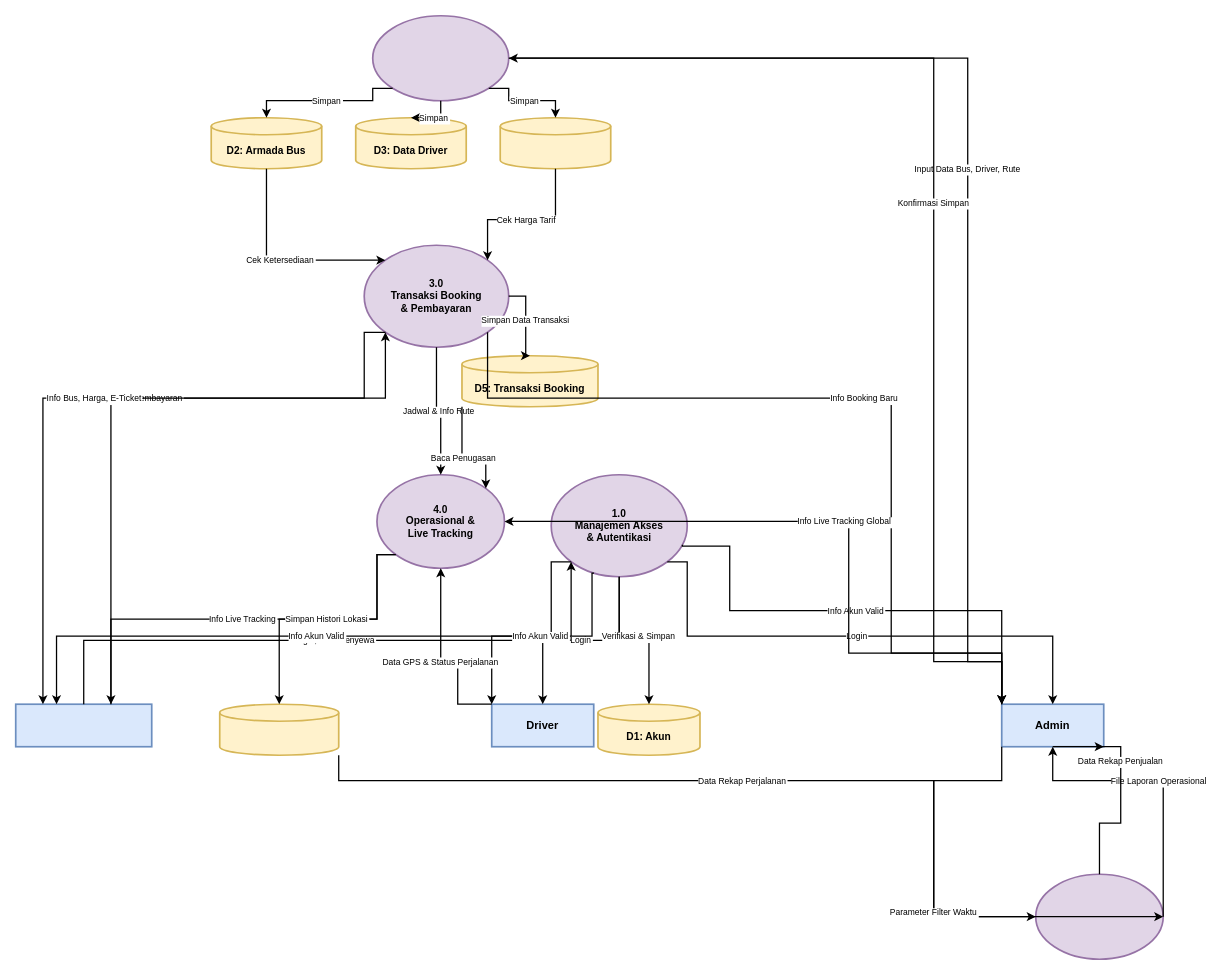
Image size: 1221x974. Some labels were removed from this diagram. The shapes that lost their labels are listed below. From the top down, each one's box as (x1, y1, x2, y2) in pixels, then its label:
(371, 14, 509, 101): 2.0 Kelola Data Master
(499, 116, 611, 169): D4: Rute & Tarif
(14, 703, 152, 747): Customer / Penyewa
(218, 703, 339, 756): D6: Log Tracking
(1034, 873, 1164, 960): 5.0 Ekstraksi Laporan
